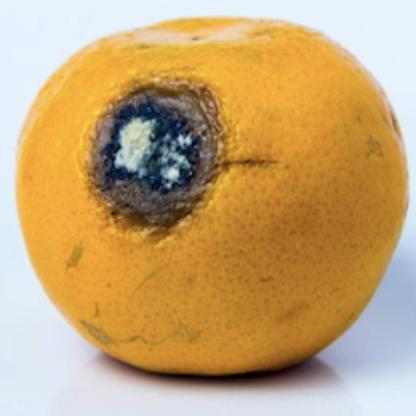rotten: (12, 19, 409, 375)
